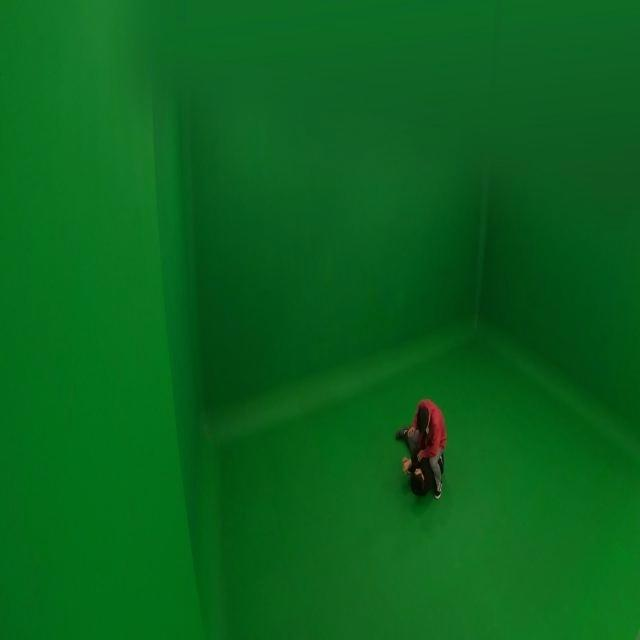fight: (393, 394, 452, 498)
